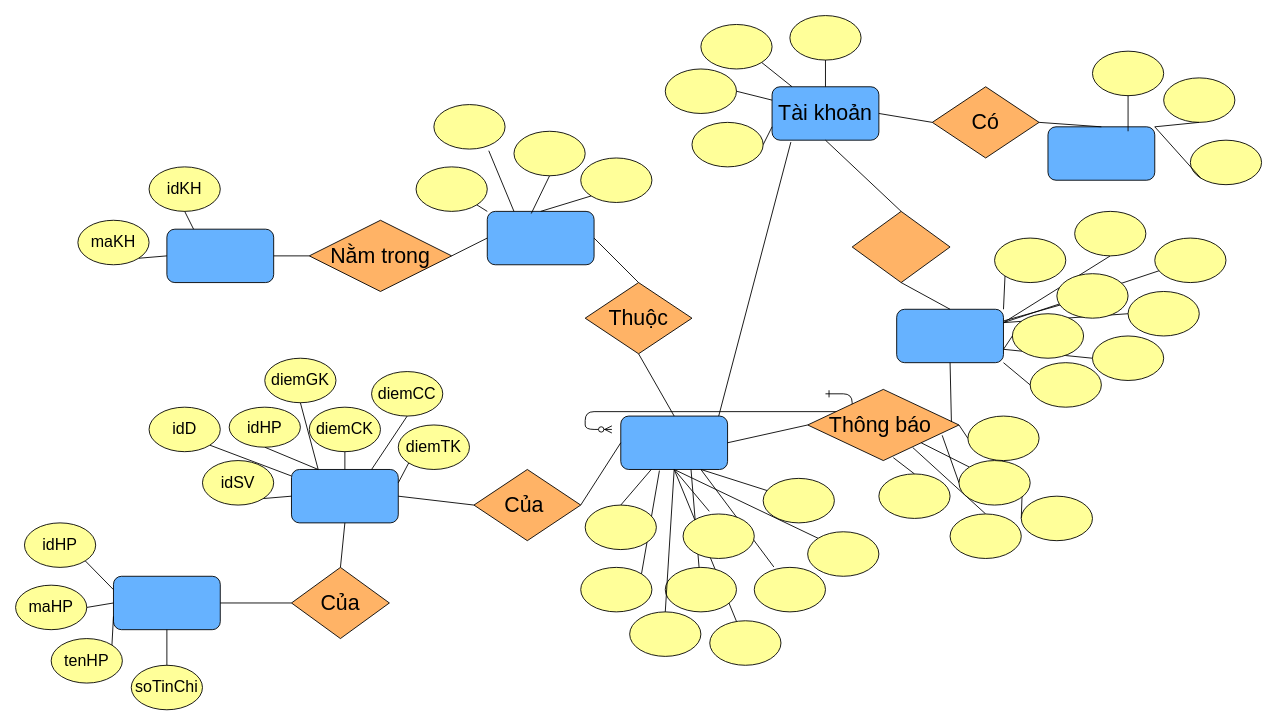
The diagram is 1277 pixels wide and 725 high, and some of its shapes have lost their labels. The centre of each missing label's shape, as x and y in pixels:
"Admin" belongs at point 949,335.
"Cấp" belongs at point 900,246.
"Học phần" belongs at point 166,602.
"Khóa học" belongs at point 220,255.
"Lớp học" belongs at point 540,237.
"Sinh viên" belongs at point 674,442.
"Vai trò" belongs at point 1101,153.
"Điểm" belongs at point 344,496.
